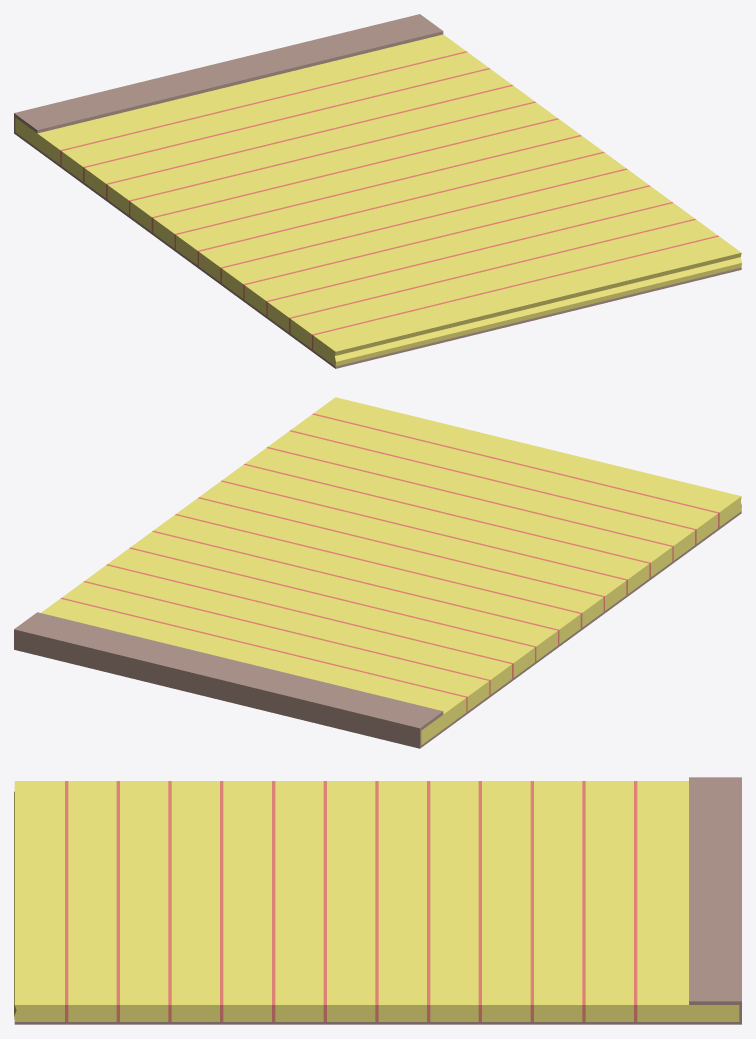
Rendered from Notebook.glb.
3 renders of one model, top to bottom at view 1: azimuth 30°, elevation 25°; view 2: azimuth 150°, elevation 25°; view 3: azimuth 270°, elevation 25°, orthographic. The views are drawn at different scales.
Visible parts, largest first — view 1: Notebook_Cube.041; view 2: Notebook_Cube.041; view 3: Notebook_Cube.041.
Part boxes in pixels (bbox=[...]): Notebook_Cube.041: bbox=[14, 14, 741, 368]; Notebook_Cube.041: bbox=[14, 397, 741, 748]; Notebook_Cube.041: bbox=[14, 777, 741, 1024].
Bounding box in the file's own units: 7.18 × 0.3453 × 9.86.
